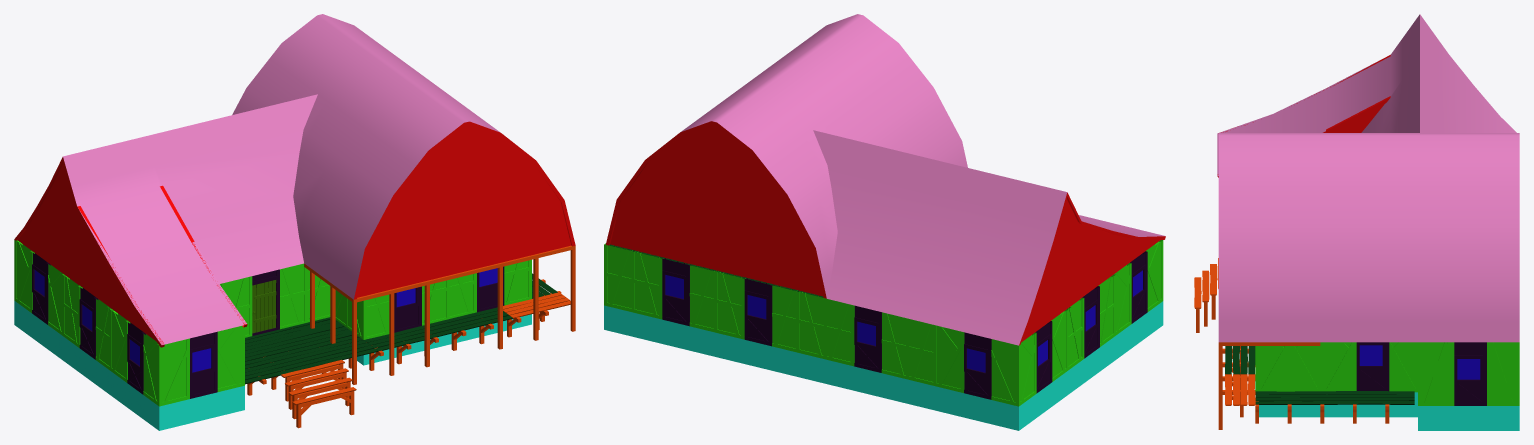
The model's file is SM_Tavern.fbx.
The picture shows the model from 3 angles, left to right: view 1: azimuth 30°, elevation 25°; view 2: azimuth 150°, elevation 25°; view 3: azimuth 270°, elevation 25°; orthographic projection. The views are drawn at different scales.
Visible parts, largest first — view 1: Tavern_roof_2, Tavern_Roof, Box062, gerüst_lp, Diagonal_cross_R072, Diagonal_Cross_L076, Diagonal_L107, Window_lp082, Diagonal_Cross_L078, Object038, Diagonal_R104, Diagonal_L110 (+20 smaller); view 2: Tavern_roof_2, Tavern_Roof, Box062, Diagonal_Cross_L083, Diagonal_L114, Diagonal_R109, Diagonal_R110, Diagonal_R108, Diagonal_L115, Diagonal_L113, Diagonal_L112, Diagonal_R106 (+15 smaller); view 3: Tavern_roof_2, Box062, Diagonal_R105, Diagonal_L116, Window_lp090, Diagonal_cross_R078, Diagonal_Cross_L081, Diagonal_cross_R077, Diagonal_Cross_L082, Window_lp089, Tavern_Roof, gerüst_lp (+6 smaller).
Boxes of the visible parts, x1=… form: Tavern_roof_2: x1=63, y1=14, x2=500, y2=344; Tavern_Roof: x1=14, y1=121, x2=575, y2=347; Box062: x1=14, y1=301, x2=531, y2=430; gerüst_lp: x1=304, y1=245, x2=575, y2=384; Diagonal_cross_R072: x1=162, y1=338, x2=189, y2=405; Diagonal_Cross_L076: x1=217, y1=326, x2=244, y2=391; Diagonal_L107: x1=280, y1=263, x2=307, y2=329; Window_lp082: x1=190, y1=331, x2=217, y2=398; Diagonal_Cross_L078: x1=143, y1=334, x2=162, y2=406; Object038: x1=252, y1=280, x2=276, y2=333; Diagonal_R104: x1=504, y1=259, x2=531, y2=305; Diagonal_L110: x1=449, y1=273, x2=476, y2=318; Tavern_roof_2: x1=680, y1=14, x2=1165, y2=345; Tavern_Roof: x1=605, y1=121, x2=1165, y2=345; Box062: x1=604, y1=301, x2=1163, y2=430; Diagonal_Cross_L083: x1=991, y1=339, x2=1020, y2=406; Diagonal_L114: x1=634, y1=251, x2=663, y2=319; Diagonal_R109: x1=772, y1=285, x2=800, y2=352; Diagonal_R110: x1=607, y1=245, x2=635, y2=312; Diagonal_R108: x1=689, y1=265, x2=718, y2=332; Diagonal_L115: x1=717, y1=272, x2=745, y2=339; Diagonal_L113: x1=799, y1=291, x2=826, y2=359; Diagonal_L112: x1=881, y1=312, x2=909, y2=379; Diagonal_R106: x1=909, y1=319, x2=936, y2=386; Tavern_roof_2: x1=1217, y1=14, x2=1519, y2=342; Box062: x1=1259, y1=392, x2=1519, y2=430; Diagonal_R105: x1=1422, y1=342, x2=1454, y2=405; Diagonal_L116: x1=1487, y1=342, x2=1519, y2=405; Window_lp090: x1=1454, y1=342, x2=1486, y2=405; Diagonal_cross_R078: x1=1324, y1=342, x2=1356, y2=391; Diagonal_Cross_L081: x1=1291, y1=342, x2=1324, y2=391; Diagonal_cross_R077: x1=1259, y1=346, x2=1291, y2=391; Diagonal_Cross_L082: x1=1389, y1=342, x2=1417, y2=392; Window_lp089: x1=1356, y1=342, x2=1389, y2=391; Tavern_Roof: x1=1217, y1=55, x2=1390, y2=177; gerüst_lp: x1=1218, y1=342, x2=1320, y2=429.
Bounding box in the file's own units: 1792 × 1041 × 1178.
